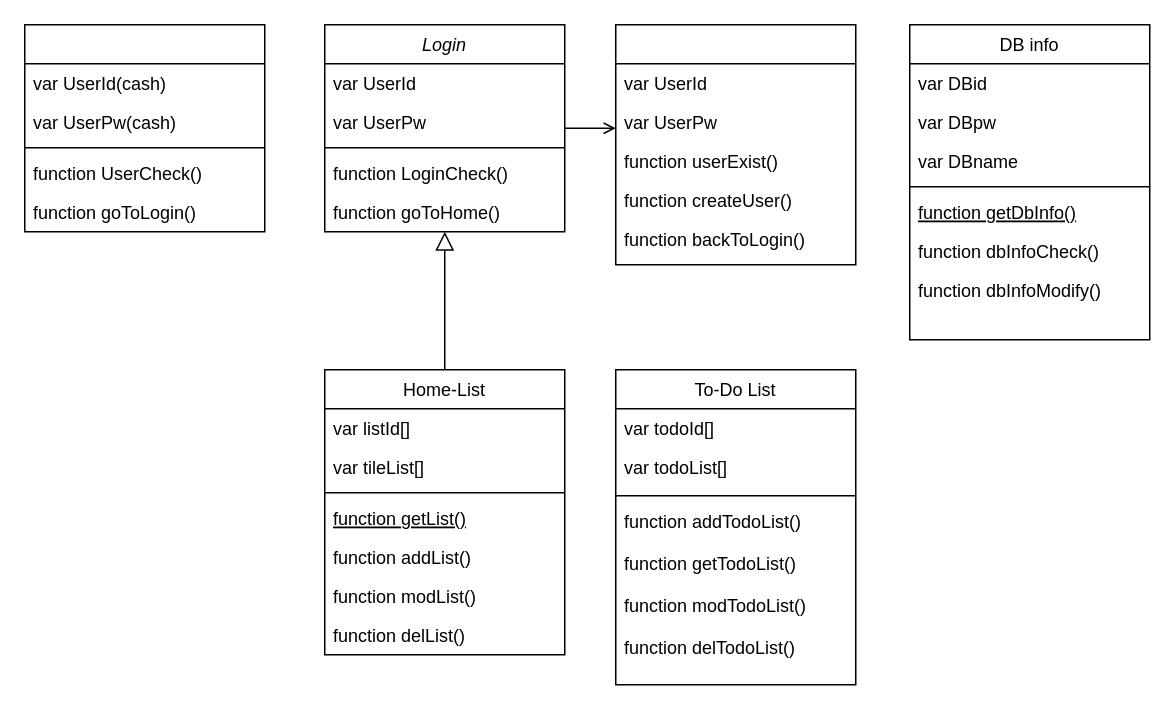
Some shapes in this 1175 by 710 pixel diagram are drawn without their labels. Here are the shapes that lost their labels. From the top down, the box of each, then its label:
(23, 23, 265, 232): Header
(614, 23, 856, 265): Registry
